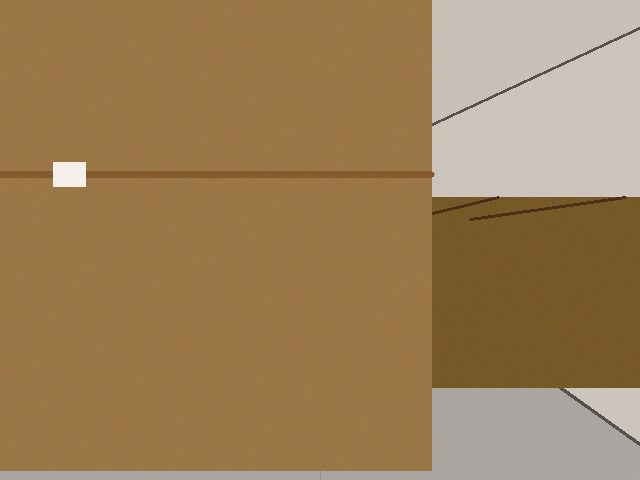box: (0, 0, 431, 470)
charging_station: (126, 152, 207, 287)
directional_sign: (314, 169, 385, 204)
pallet: (245, 197, 639, 387)
